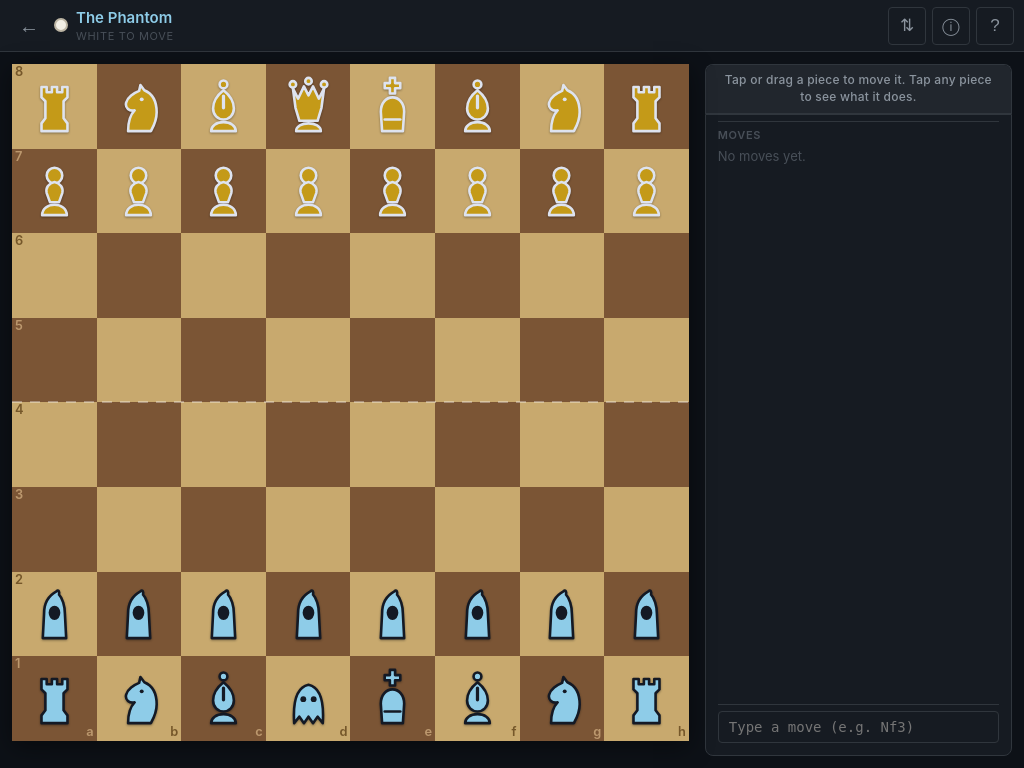
Test: Shade Ghostwalk in the UI › selected Shade shows move dots beyond its own pawn wall
The width and height of the screenshot is (1024, 768).
Click the cell "d": (308, 698) [266,656,350,741]
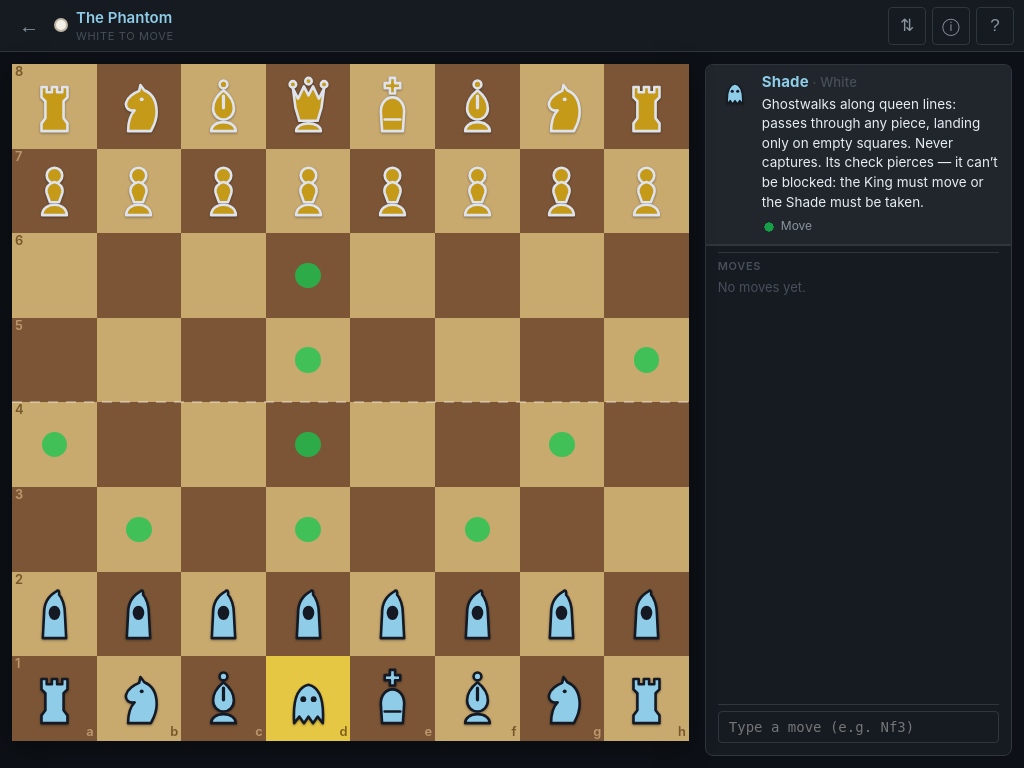
Result: the cell named "d4" has class "hl-move" at [266,402,350,487]
